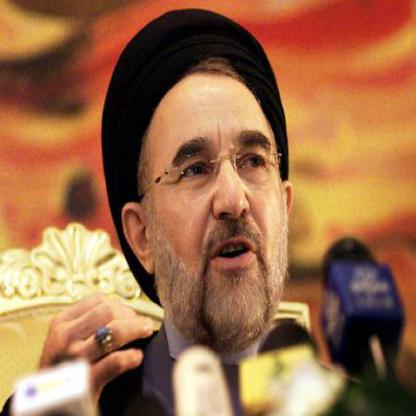face: (138, 17, 288, 347)
